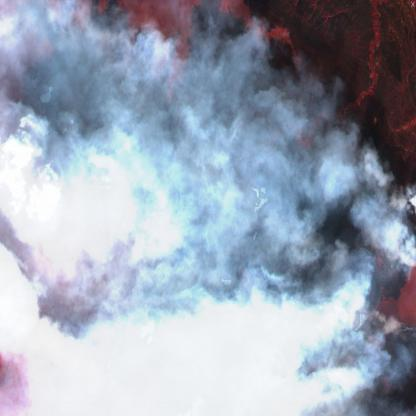fire: (5, 0, 176, 250), (99, 251, 197, 416), (363, 222, 416, 351)
